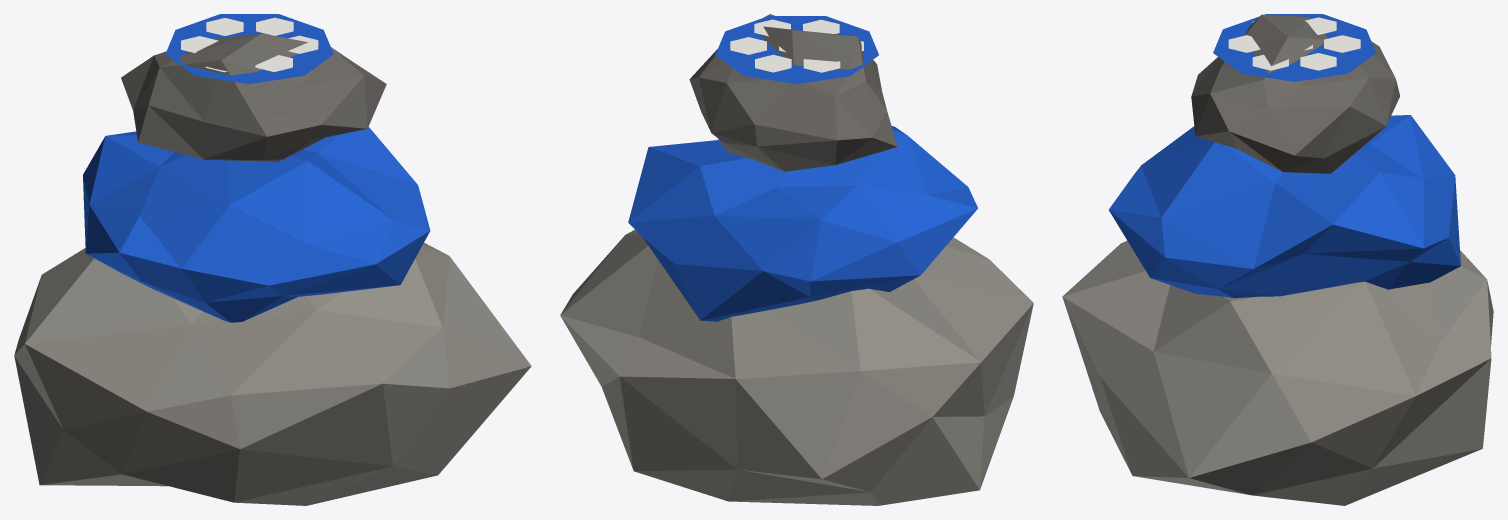
File: marker_nuee.glb
3 renders of one model, left to right at view 1: azimuth 30°, elevation 25°; view 2: azimuth 150°, elevation 25°; view 3: azimuth 270°, elevation 25°, orthographic. The views are drawn at different scales.
Parts seen in each view (by area): view 1: pebble_0, pebble_2, pebble_4, marker_nuee, group_7; view 2: pebble_0, pebble_2, pebble_4, marker_nuee, group_7; view 3: pebble_0, pebble_2, pebble_4, marker_nuee, group_7.
Boxes of the visible parts, <box> form: pebble_0: <box>14,242,531,505</box>; pebble_2: <box>83,127,430,322</box>; pebble_4: <box>121,33,386,161</box>; marker_nuee: <box>165,14,333,83</box>; group_7: <box>181,17,318,72</box>; pebble_0: <box>560,230,1033,505</box>; pebble_2: <box>628,126,978,321</box>; pebble_4: <box>689,14,897,171</box>; marker_nuee: <box>715,16,878,84</box>; group_7: <box>730,19,863,72</box>; pebble_0: <box>1062,241,1493,505</box>; pebble_2: <box>1108,115,1460,298</box>; pebble_4: <box>1191,14,1399,173</box>; marker_nuee: <box>1213,14,1375,81</box>; group_7: <box>1228,17,1360,70</box>.
Size of the model in its own units: 7.63 by 7.49 by 6.76.
